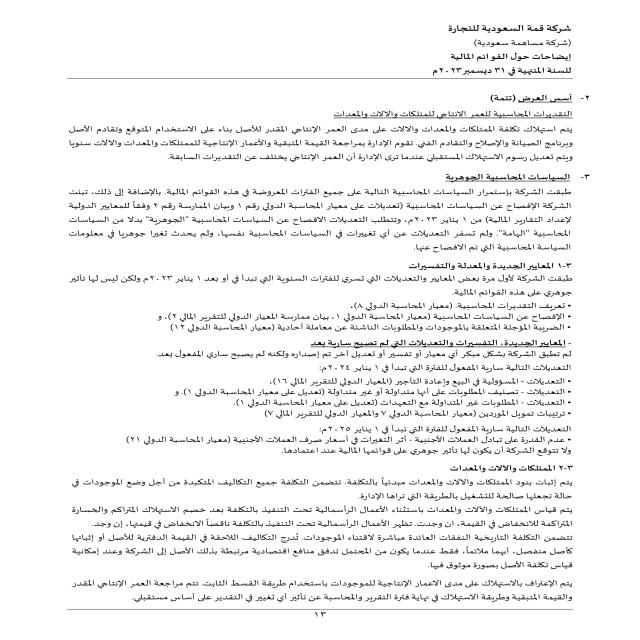notes: (442, 51, 582, 65)
text: (25, 94, 605, 610)
